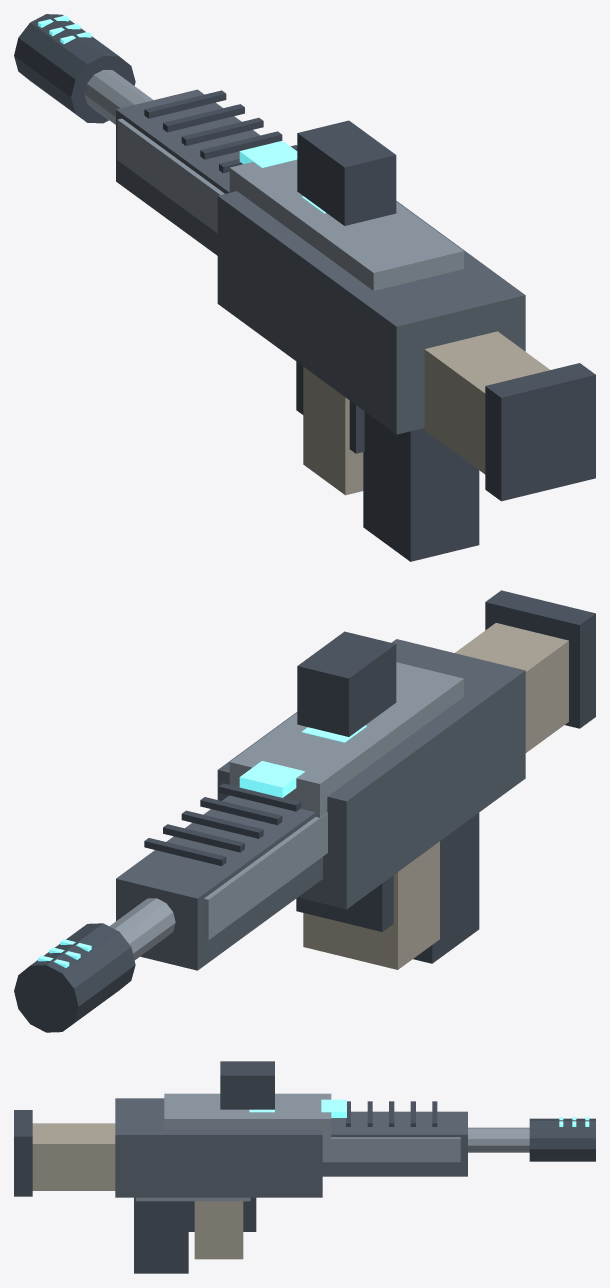
Rendered from rifle.glb.
3 renders of one model, top to bottom at view 1: azimuth 30°, elevation 25°; view 2: azimuth 150°, elevation 25°; view 3: azimuth 270°, elevation 25°, orthographic. The views are drawn at different scales.
Parts seen in each view (by area): view 1: body_material_2, body_material_0, body_material_1, body_material_3, body_material_4; view 2: body_material_0, body_material_2, body_material_1, body_material_3, body_material_4; view 3: body_material_0, body_material_2, body_material_1, body_material_3, body_material_4.
Part boxes in pixels (x1,y1,x2,y2): body_material_2: (14,14,595,561); body_material_0: (116,89,525,434); body_material_1: (84,70,463,290); body_material_3: (303,331,549,495); body_material_4: (38,15,325,213); body_material_0: (116,639,525,970); body_material_2: (14,590,595,1032); body_material_1: (109,662,463,959); body_material_3: (303,623,568,969); body_material_4: (38,725,366,967); body_material_0: (115,1098,467,1197); body_material_2: (14,1061,595,1273); body_material_1: (135,1093,529,1201); body_material_3: (32,1123,243,1259); body_material_4: (249,1099,589,1126).
Bounding box in the file's own units: 0.3 × 0.75 × 2.02.
